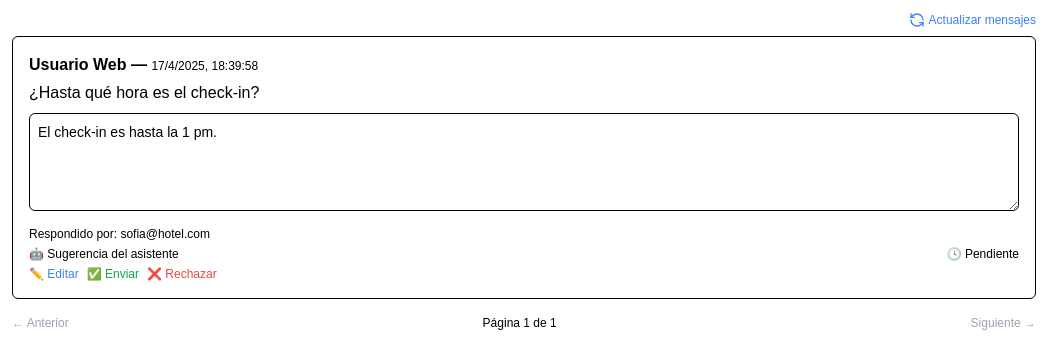
Test: <ChannelMessages /> › cambia el estado a 'sent' al hacer clic en '✅ Enviar'
Expected: the text "¿Hasta qué hora es el check-in?" is shown, [29,84,259,101]
Click the button "✅ Enviar".
click(113, 274)  # box [87,266,139,282]
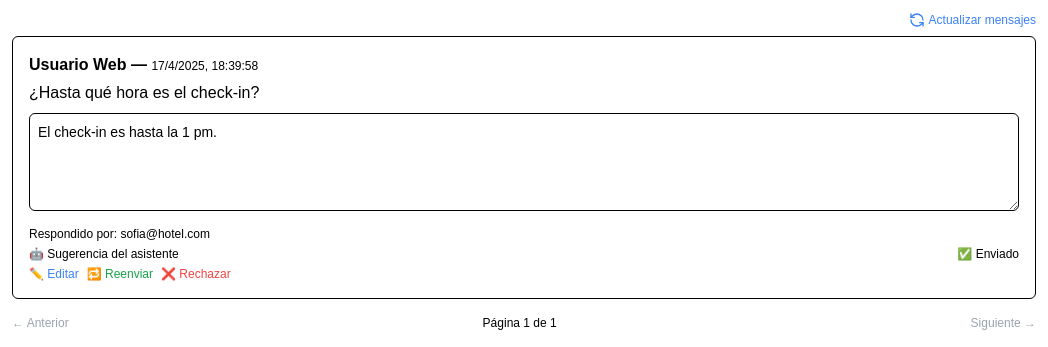
Now the text "✅ Enviado" is shown, box [957,246,1019,262]
